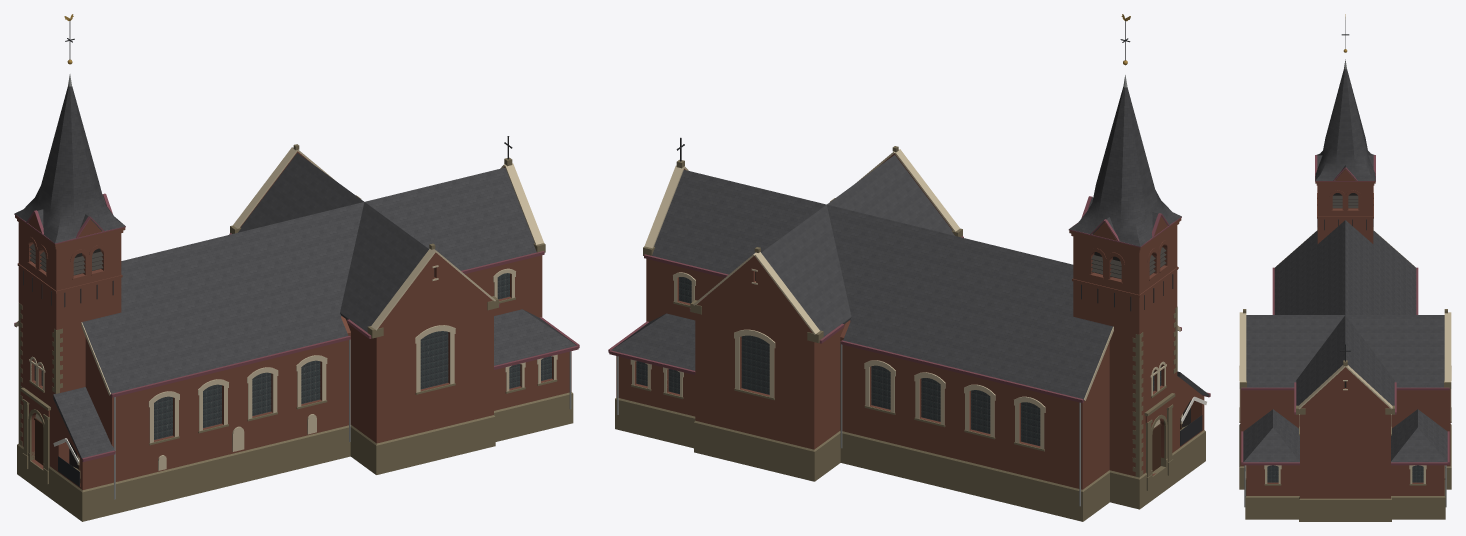
Rendered from church.glb.
3 renders of one model, left to right at view 1: azimuth 30°, elevation 25°; view 2: azimuth 150°, elevation 25°; view 3: azimuth 270°, elevation 25°, orthographic. The views are drawn at different scales.
Parts seen in each view (by area): view 1: church_slate, church_brick, church_stone, church_trim, church_fittings, church_glass; view 2: church_slate, church_brick, church_stone, church_trim, church_glass, church_fittings; view 3: church_slate, church_brick, church_stone, church_fittings, church_trim, church_glass.
Boxes of the visible parts, x1,y1,x2,y2 form: church_slate: (14, 86, 576, 459); church_brick: (15, 151, 571, 489); church_stone: (17, 144, 573, 521); church_trim: (15, 147, 557, 470); church_fittings: (14, 14, 579, 499); church_glass: (34, 273, 551, 439); church_slate: (611, 87, 1209, 400); church_brick: (616, 153, 1204, 489); church_stone: (615, 146, 1205, 521); church_trim: (630, 149, 1182, 449); church_glass: (636, 277, 1161, 446); church_fittings: (608, 14, 1210, 506); church_slate: (1243, 68, 1447, 462); church_brick: (1240, 169, 1450, 498); church_stone: (1239, 227, 1451, 521); church_fittings: (1241, 14, 1449, 507); church_trim: (1239, 230, 1451, 483); church_glass: (1267, 465, 1423, 482).
Bounding box in the file's own units: 33.12 × 30.77 × 17.12.
6 materials, 2 textured.
